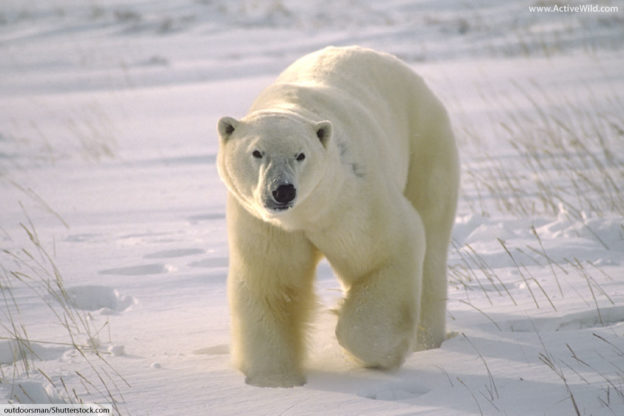Polar Bear: (190, 27, 508, 403)
